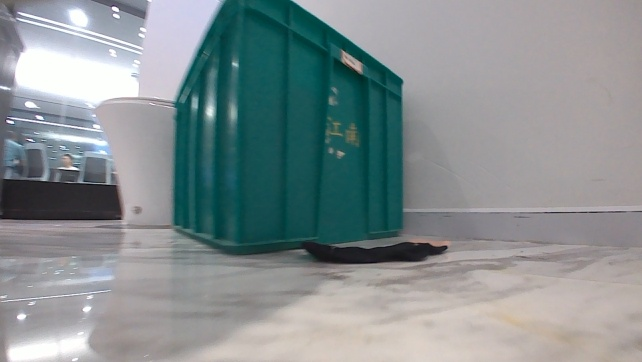socks: (298, 235, 451, 268)
toilet: (95, 94, 178, 229)
